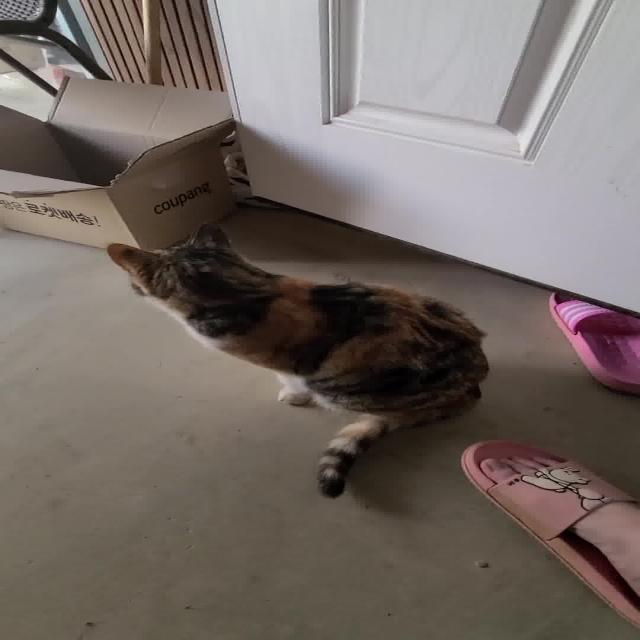cat: (101, 210, 491, 502)
